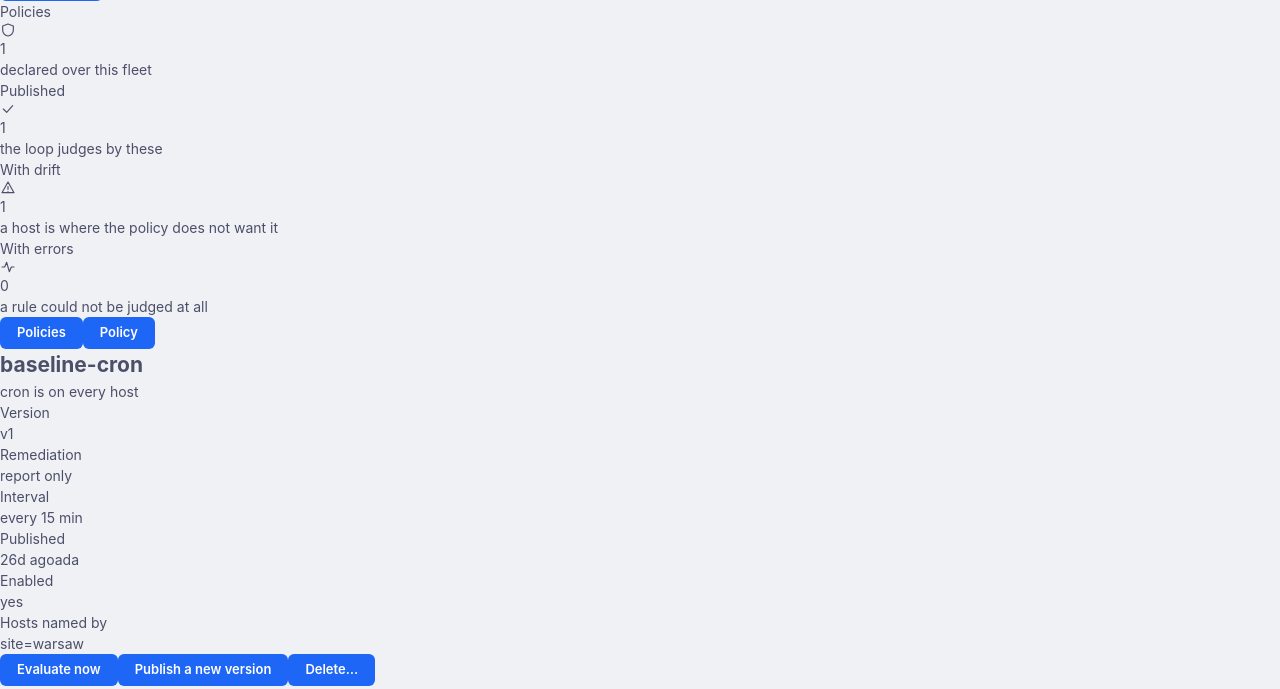
Test case: one policy › asks before publishing and sends the reason with the publication
Click the button with test id "publish".
click(203, 670)  # box [118,654,288,686]
(page scrolled)
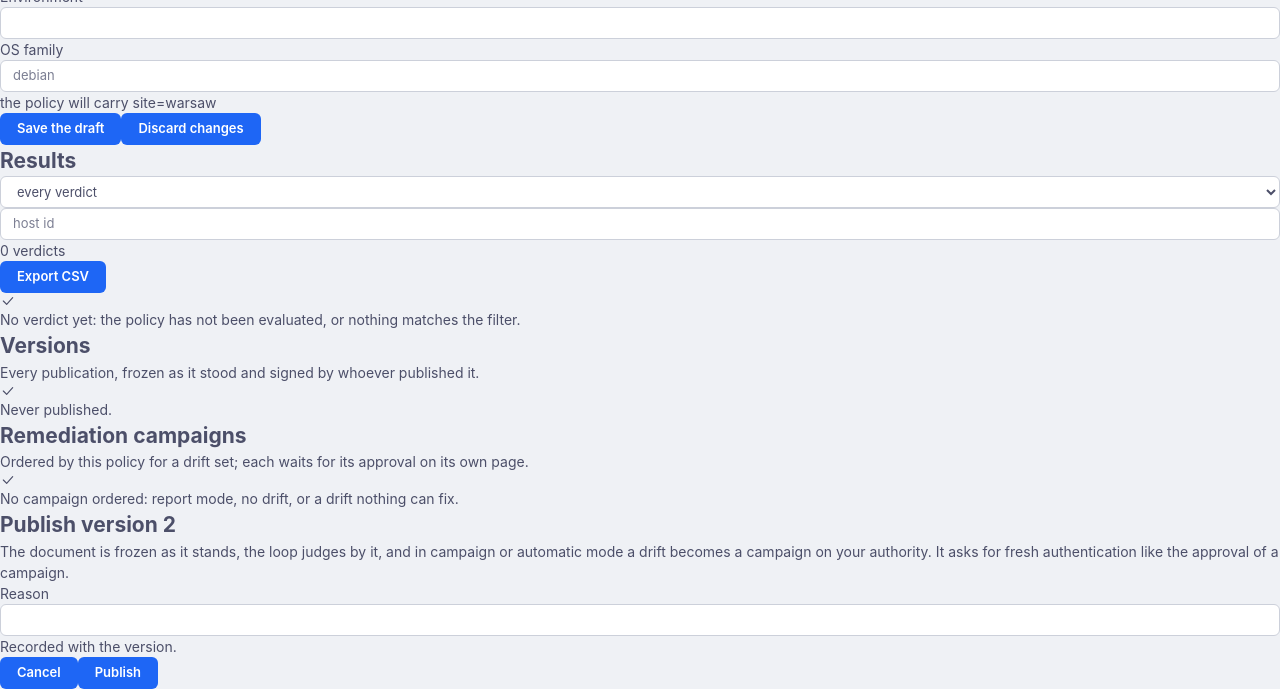
Type "the baseline moved" into the field with test id "publish-reason".
click(640, 620); type("the baseline moved")  # box [0,604,1279,636]
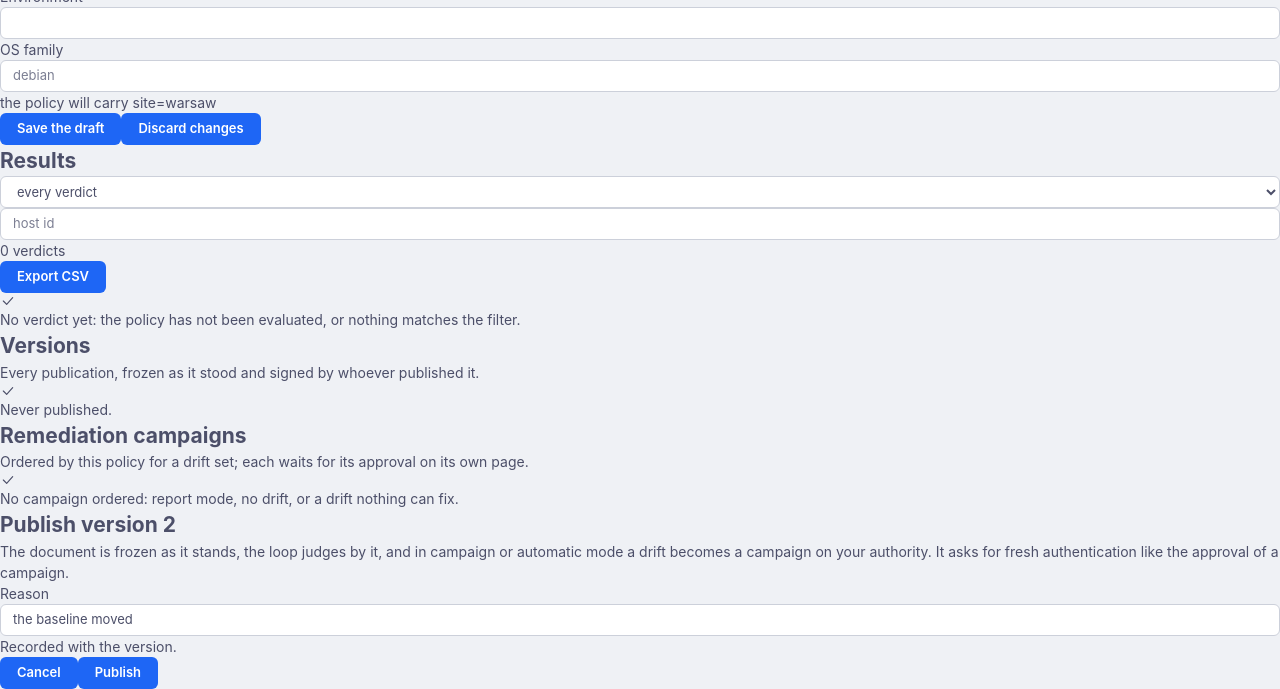
Click the button with test id "publish-confirm".
click(118, 673)  # box [78,657,158,688]
(page scrolled)
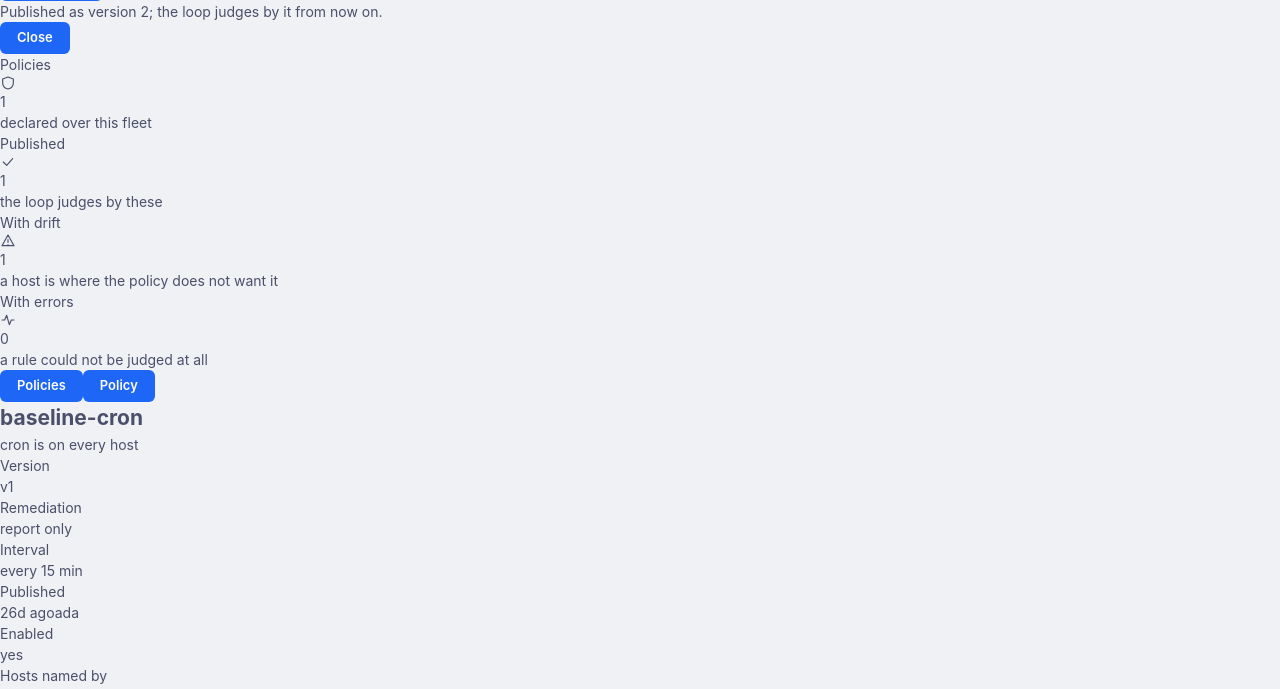
Expected: the text "Published as version 2; the loop judges by it from now on." is shown, [0,3,382,20]
